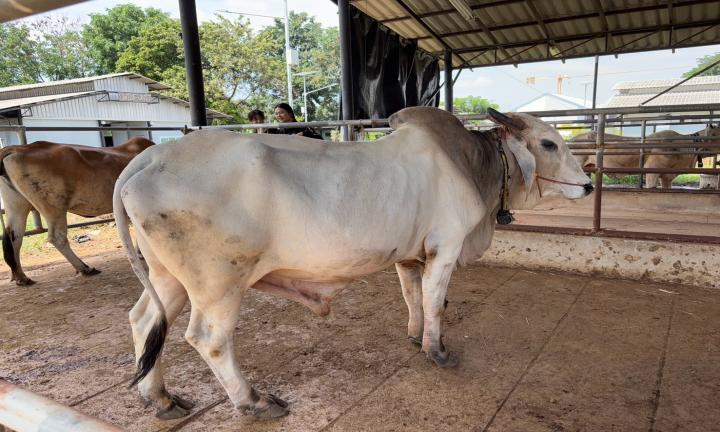Brahman: (114, 107, 591, 418)
